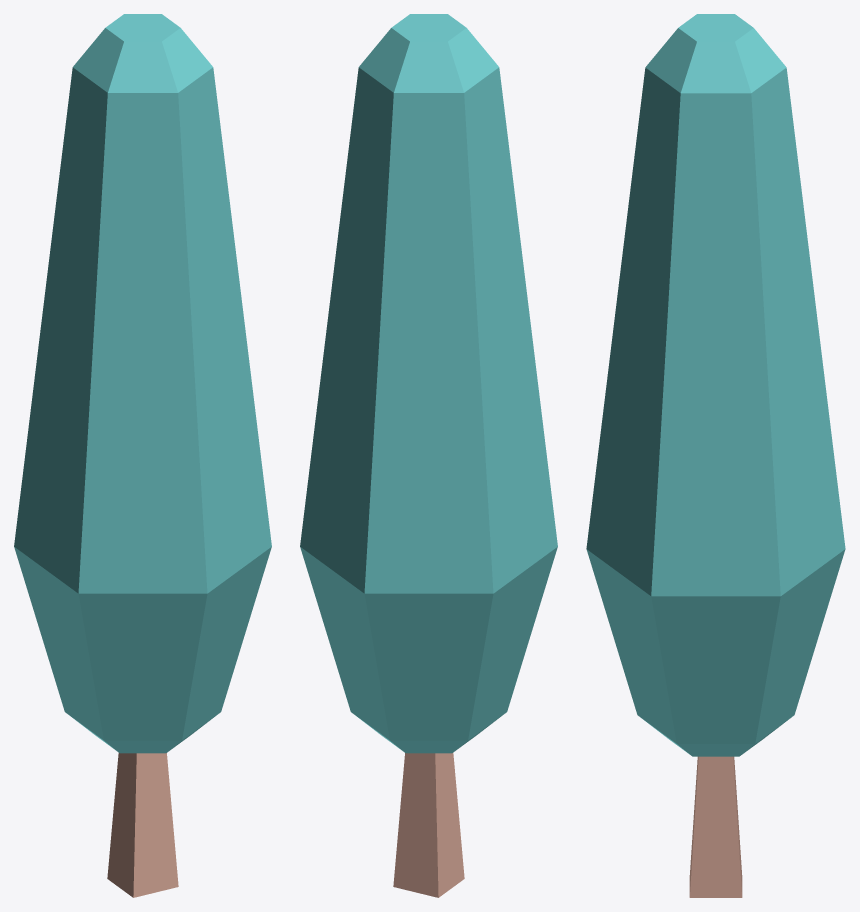
Rendered from tree_tall_dark.gltf.
3 renders of one model, left to right at view 1: azimuth 30°, elevation 25°; view 2: azimuth 150°, elevation 25°; view 3: azimuth 270°, elevation 25°, orthographic.
Visible parts, largest first — view 1: tree_tall_dark; view 2: tree_tall_dark; view 3: tree_tall_dark.
Part boxes in pixels (x1,y1,x2,y2): tree_tall_dark: (14, 14, 271, 897); tree_tall_dark: (300, 14, 557, 897); tree_tall_dark: (586, 14, 845, 897).
Size of the model in its own units: 0.3996 by 1.69 by 0.4614.
